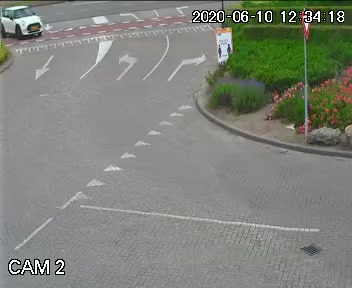car: (0, 2, 47, 45)
